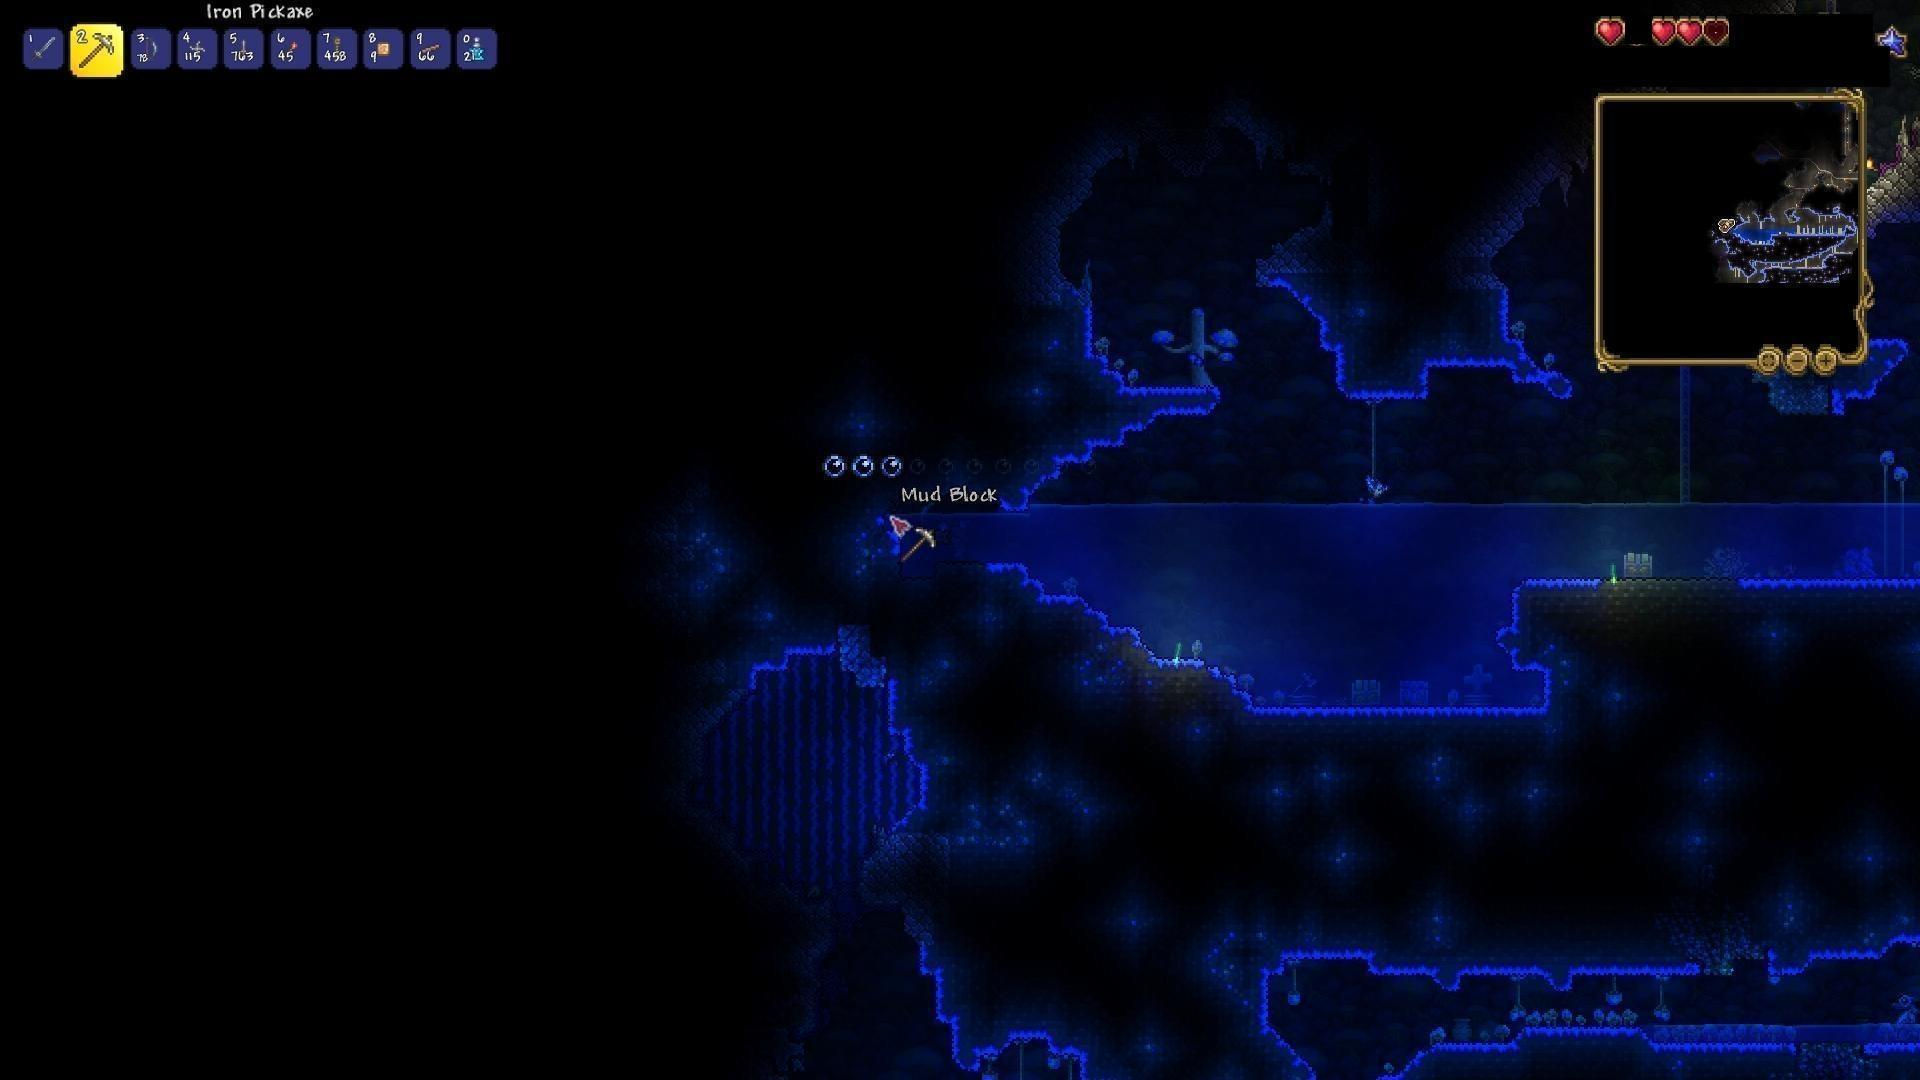heart: (1593, 16, 1626, 46), (1676, 15, 1704, 50), (1650, 16, 1676, 49)
